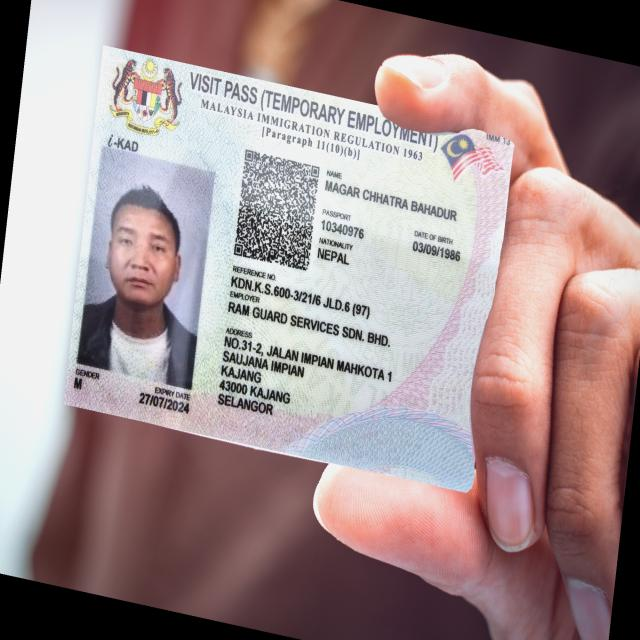ikad-temp: (62, 44, 515, 494)
